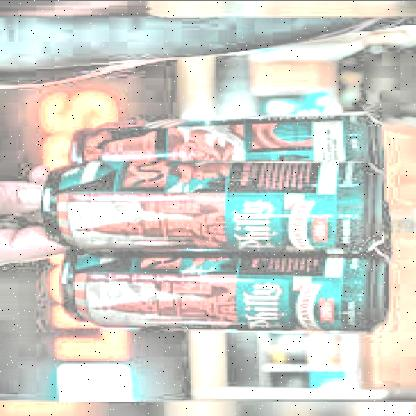Can: (39, 157, 384, 255), (56, 242, 392, 332), (69, 109, 385, 167)
